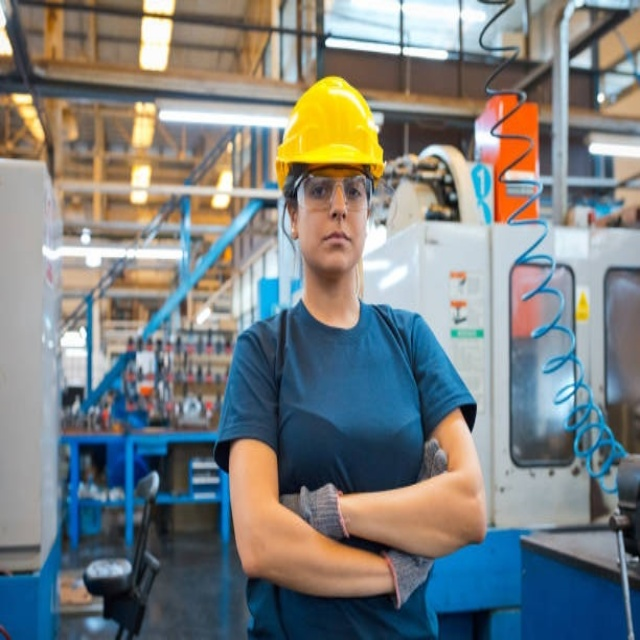Gafas: (290, 166, 376, 213)
Guantes: (380, 424, 449, 610), (273, 472, 348, 535)
Sin_mascara: (315, 224, 358, 270)
